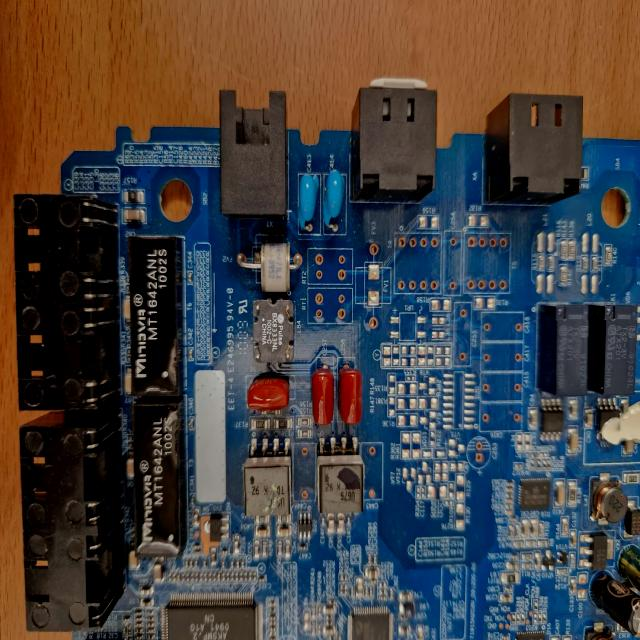C: (594, 576, 640, 636), (619, 542, 640, 588)
E: (296, 174, 318, 232), (322, 172, 344, 228)
F: (20, 411, 121, 528), (12, 196, 116, 302), (16, 302, 120, 408), (487, 95, 582, 206), (22, 528, 124, 626), (352, 90, 436, 202), (220, 90, 286, 216)
